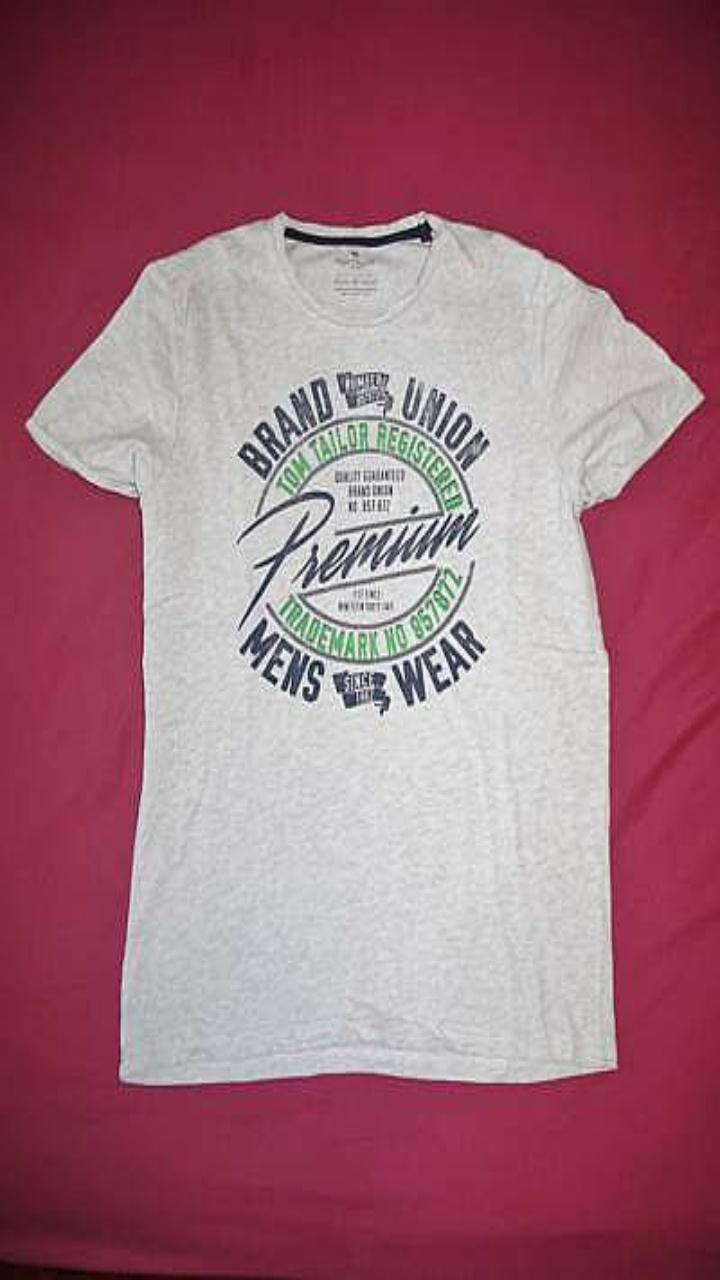T-Shirt: (26, 211, 703, 1084)
